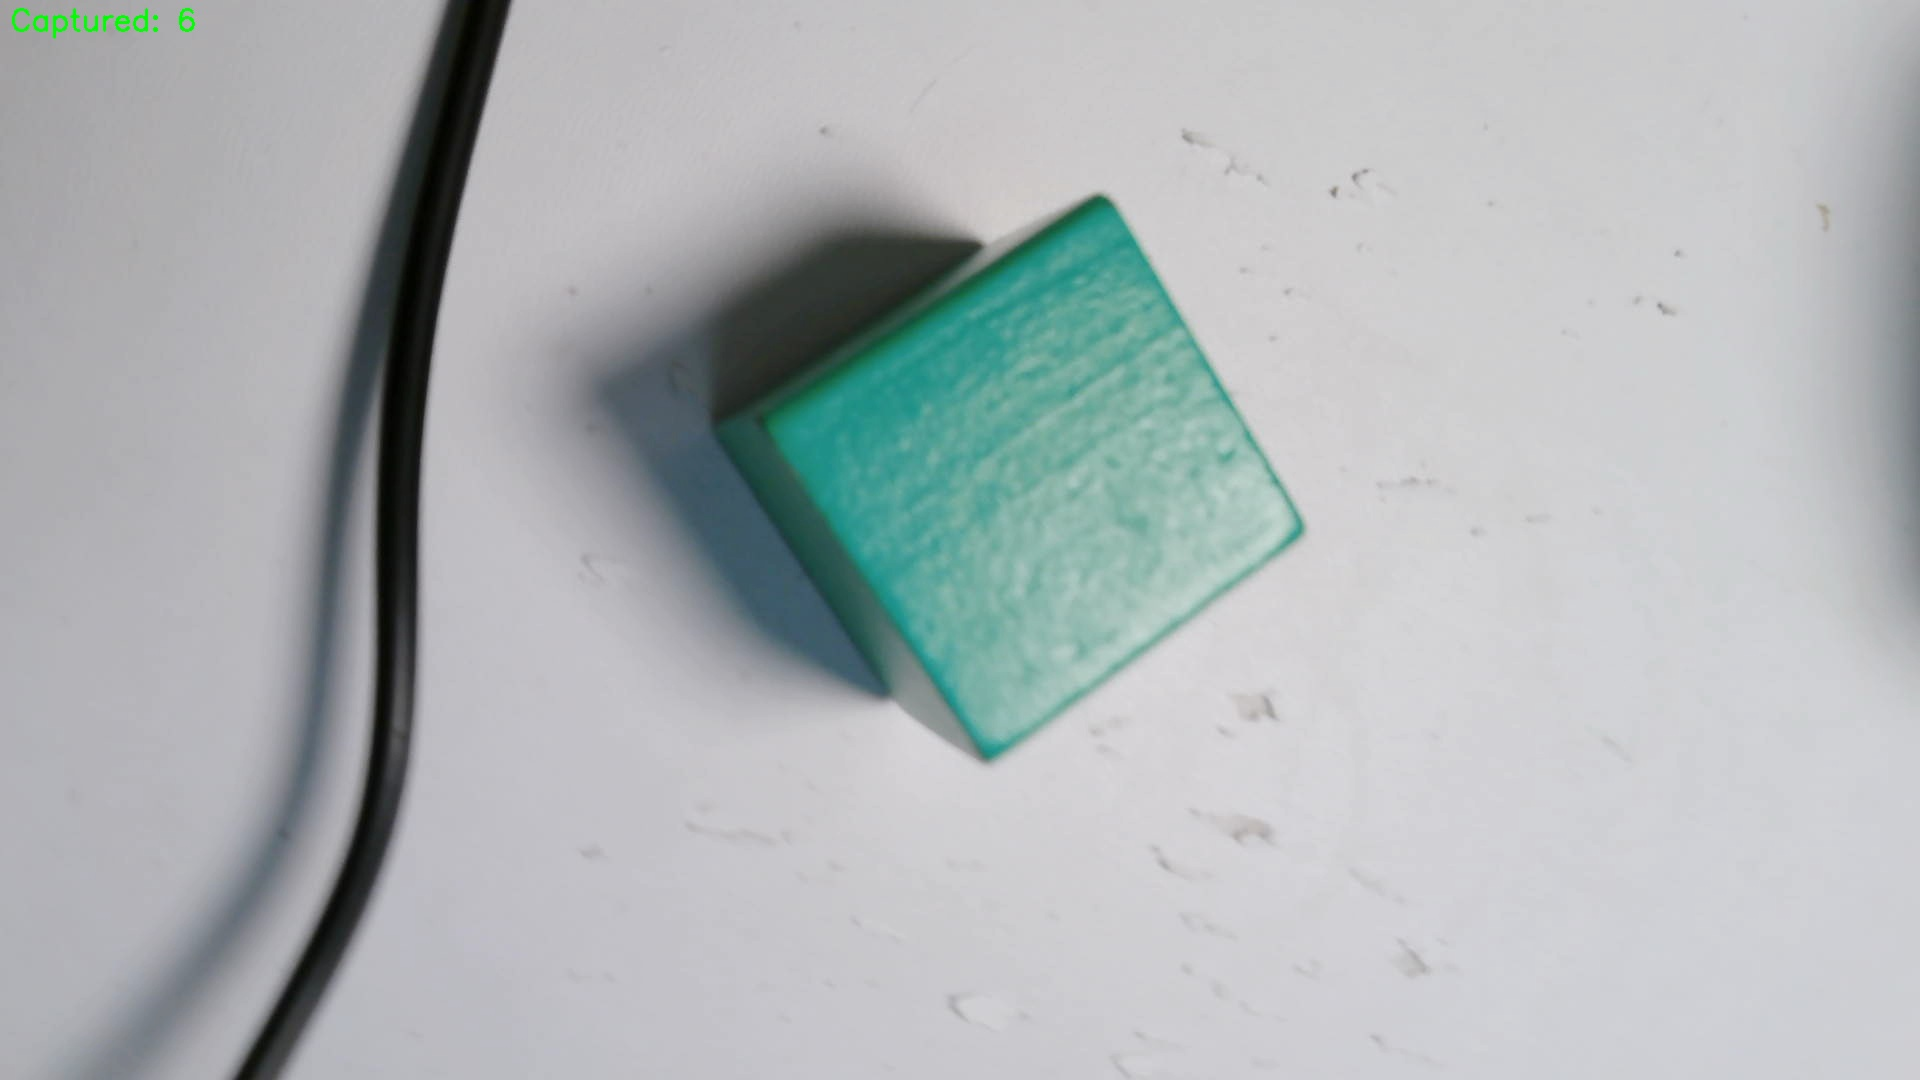green: (727, 196, 1308, 753)
